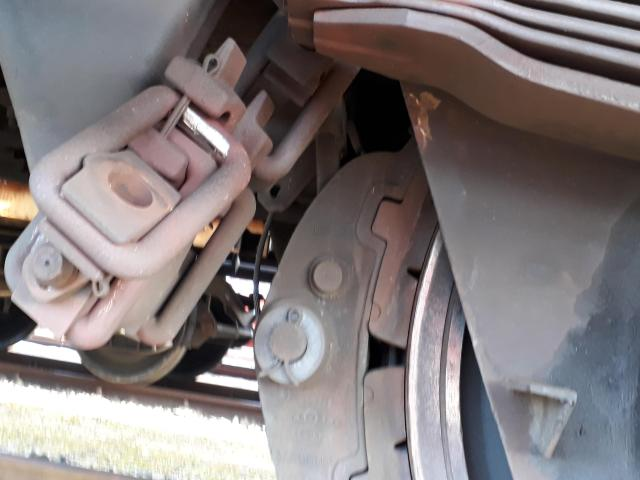blattfederww: (297, 1, 640, 102)
